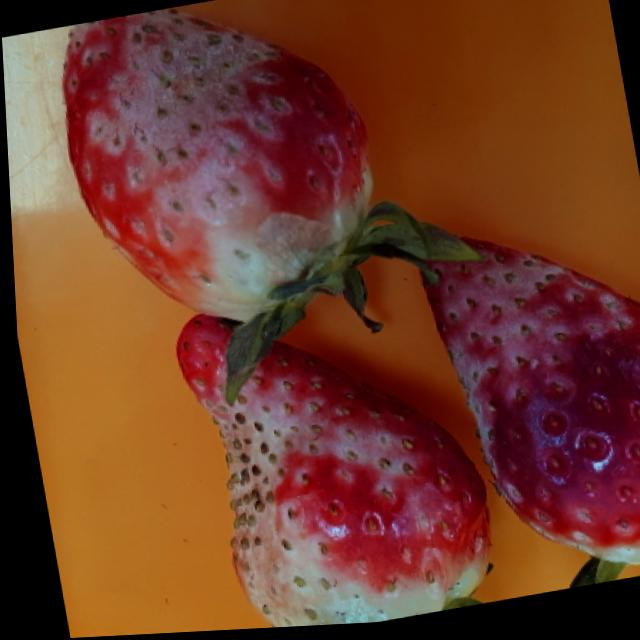Powdery Mildew Fruit: (171, 313, 486, 630), (58, 9, 370, 323), (419, 244, 640, 570)
